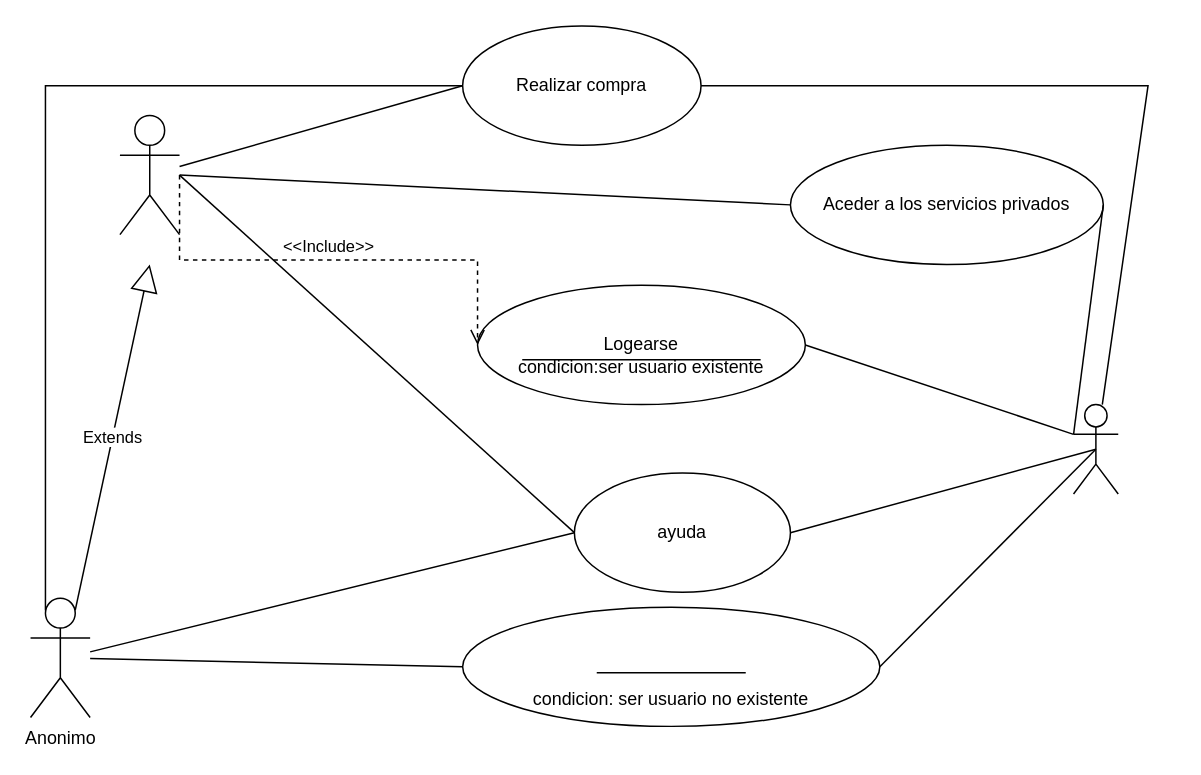
This 1201x775 diagram has some shape labels left out. Each missing label, with the box of its shape:
Registrarse: (461, 606, 880, 726)
Sistema controlador: (1072, 403, 1118, 494)
Socio: (118, 114, 180, 235)
